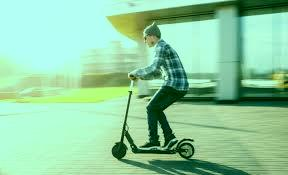nonhelmet: (110, 18, 198, 160)
